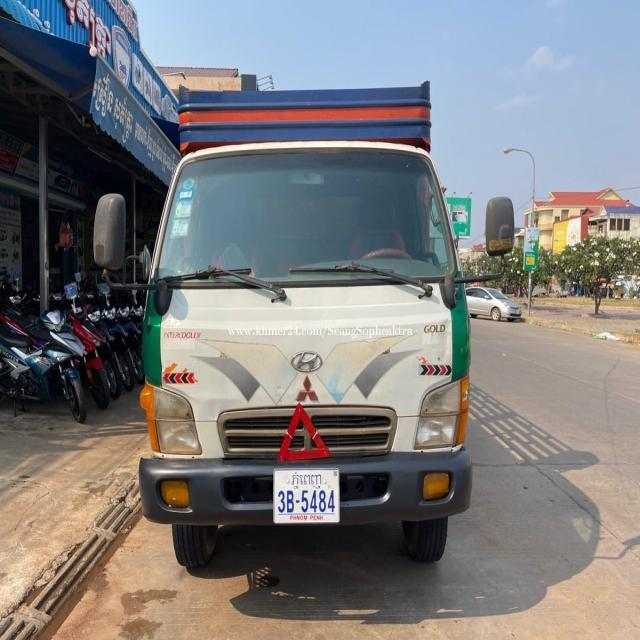Phnom_Penh: (291, 470, 322, 489)
